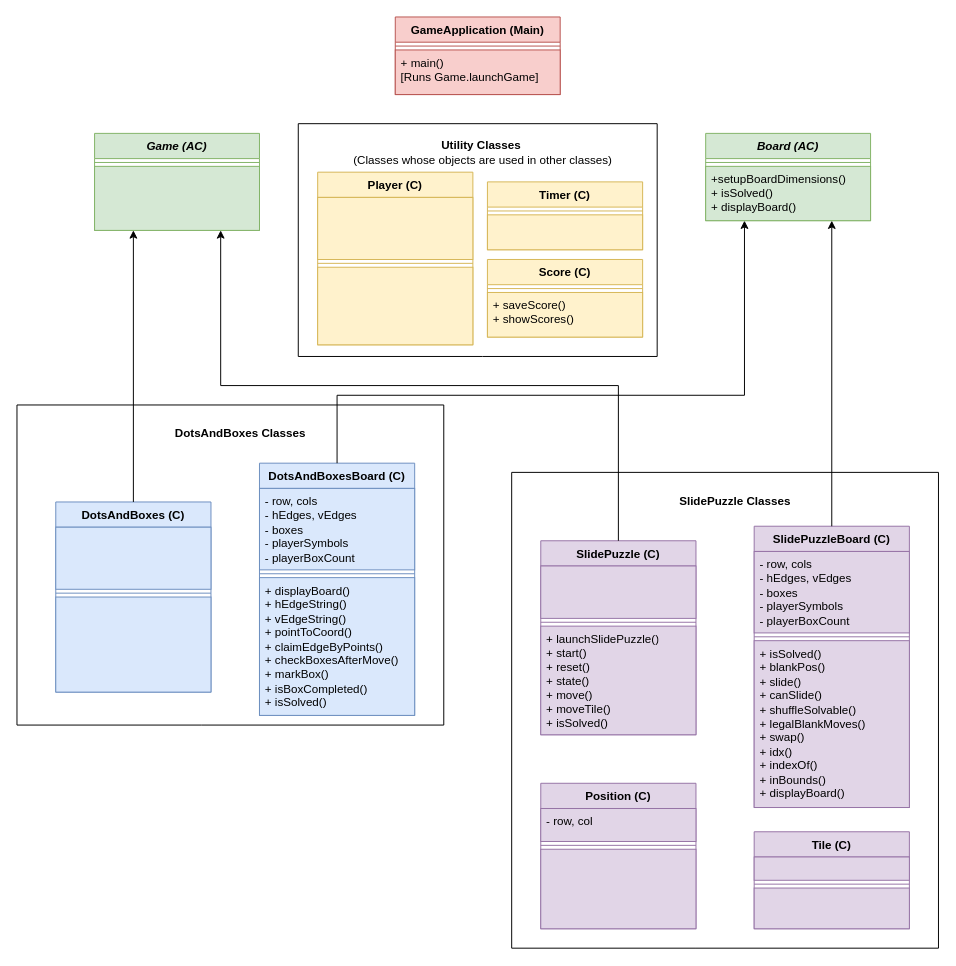
Some shapes in this 956 by 966 pixel diagram are drawn without their labels. Each missing label, with the centre of its shape:
+ formatTime(): the point at 564,232
+ getName() + getScore() + incrementScore() + isWinner() + makeWinner(): the point at 395,305
+ id() + isBlank(): the point at 831,908
+ launchDotsAndBoxes() + start() + reset() + state() + end() + printWinner(): the point at 133,644
+ launchGame() + start() + reset() + state(): the point at 176,197
+ of() + equals() + hashCode() + toString(): the point at 618,888
- board - p1 - p2: the point at 133,557
- board - row, cols - rng: the point at 618,591
- id: the point at 831,868
- name - id - score - isWinner: the point at 395,227
